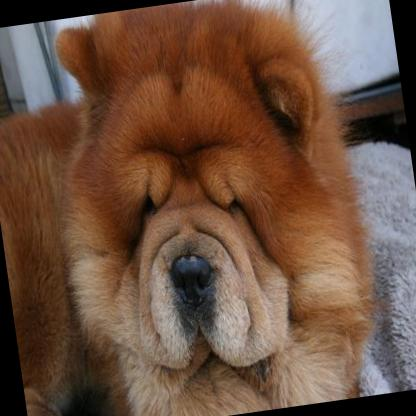chow: (0, 0, 395, 416)
